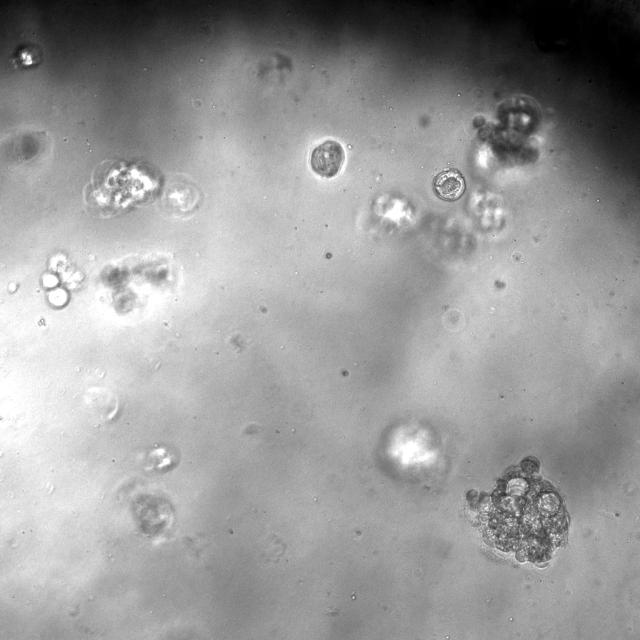organoid: (465, 457, 569, 567), (359, 190, 476, 255), (472, 94, 542, 164), (99, 254, 176, 317), (83, 158, 164, 217), (377, 419, 448, 486), (39, 251, 84, 309), (156, 173, 202, 219), (131, 492, 173, 537), (468, 191, 506, 235), (137, 441, 180, 474), (311, 140, 344, 177), (432, 168, 465, 200), (12, 43, 43, 69)
